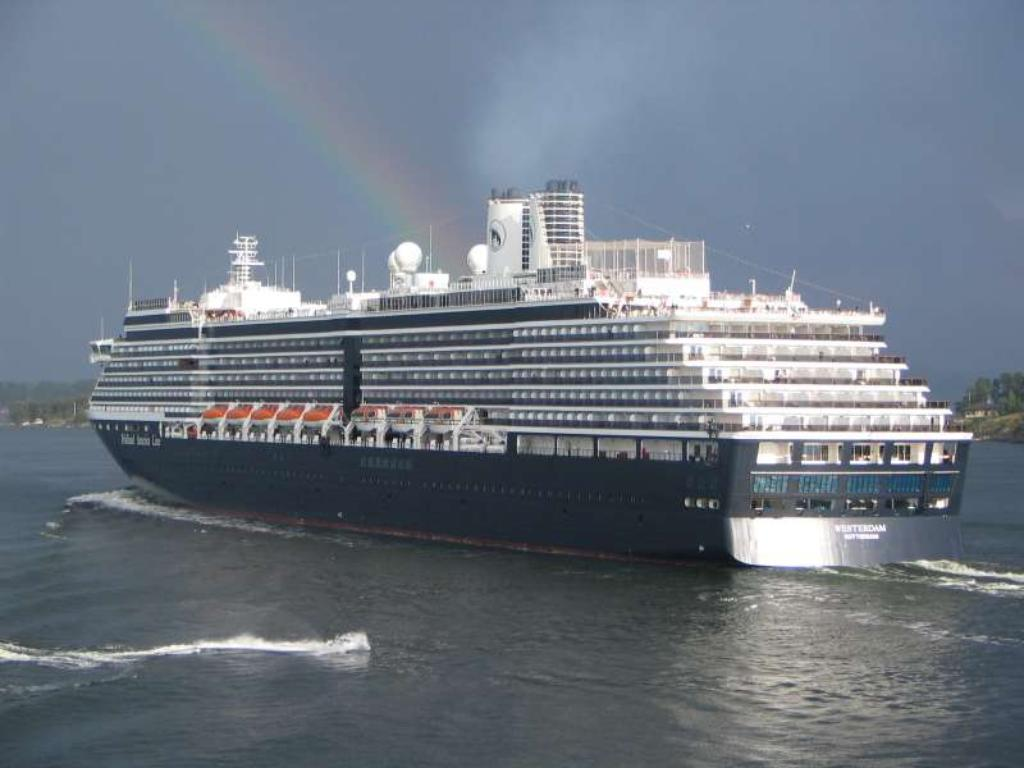PassengerShip: (81, 173, 981, 575)
